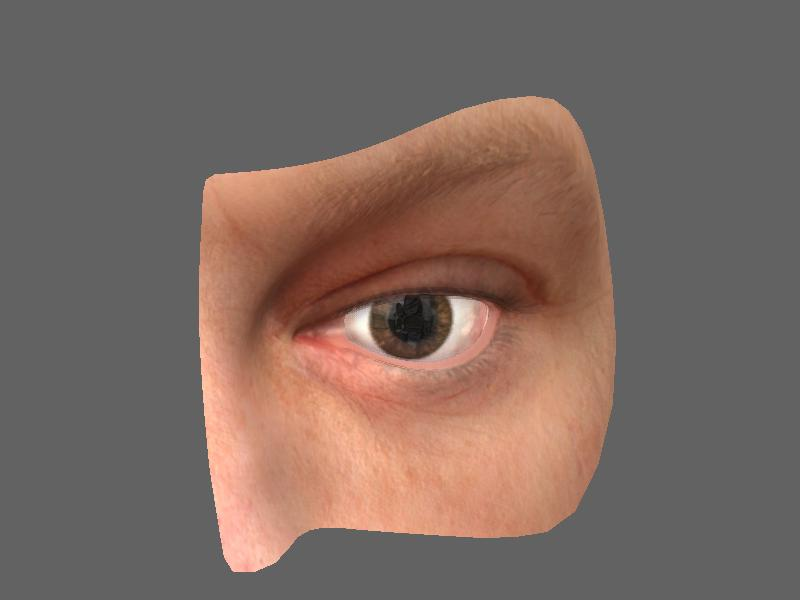iris: (366, 293, 457, 359)
